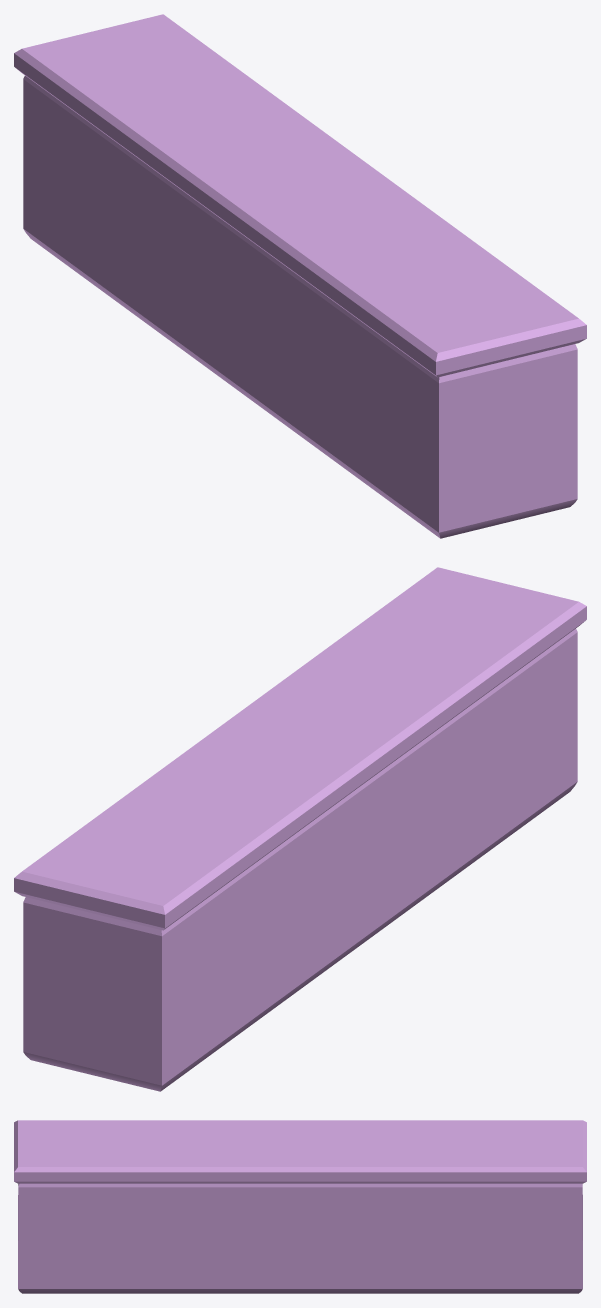
Rendered from Friday_House_Divider.fbx.
3 views of the same model, one above another, from view 1: azimuth 30°, elevation 25°; view 2: azimuth 150°, elevation 25°; view 3: azimuth 270°, elevation 25° (orthographic). The views are drawn at different scales.
Parts seen in each view (by area): view 1: Counter, CounterTop; view 2: Counter, CounterTop; view 3: Counter, CounterTop.
Part boxes in pixels (box(x1,y1,x2,y2)): Counter: box(23, 76, 577, 538); CounterTop: box(14, 14, 586, 377); Counter: box(23, 629, 577, 1091); CounterTop: box(14, 567, 586, 930); Counter: box(18, 1183, 582, 1293); CounterTop: box(14, 1120, 586, 1183).
Bounding box in the file's own units: 99.79 × 121 × 482.
